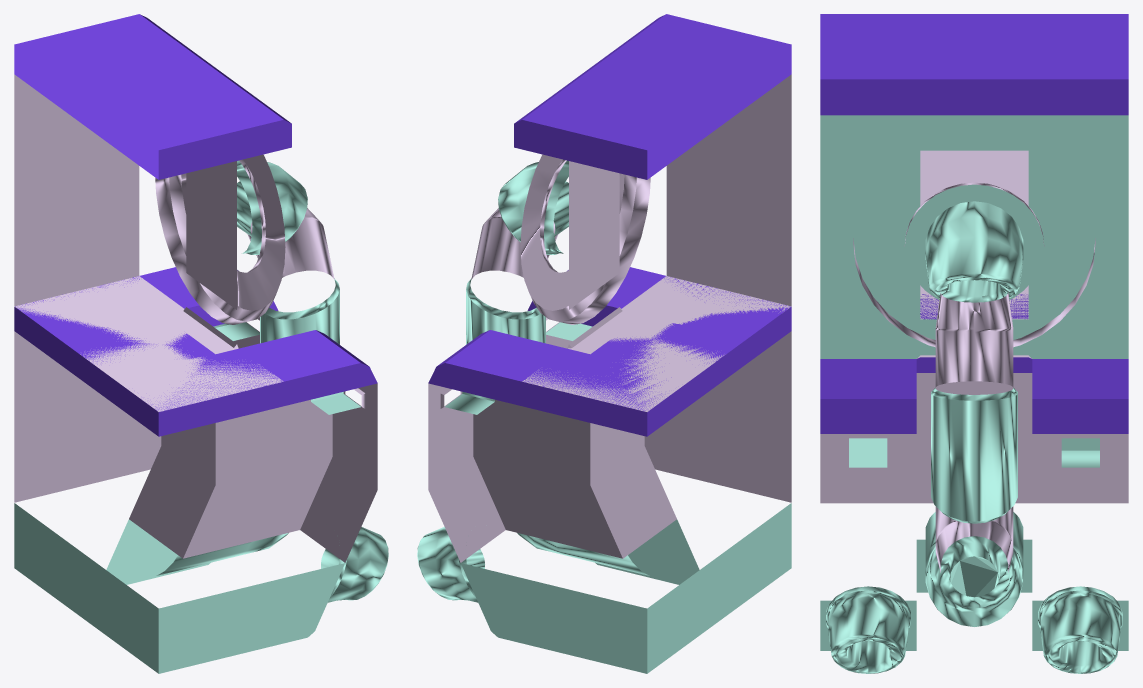
Rendered from uee_stanton_kit_ext_wall_8x8x16_02_reg.glb.
3 renders of one model, left to right at view 1: azimuth 30°, elevation 25°; view 2: azimuth 150°, elevation 25°; view 3: azimuth 270°, elevation 25°, orthographic. The views are drawn at different scales.
Bounding box in the file's own units: 7.92 × 16 × 8.
